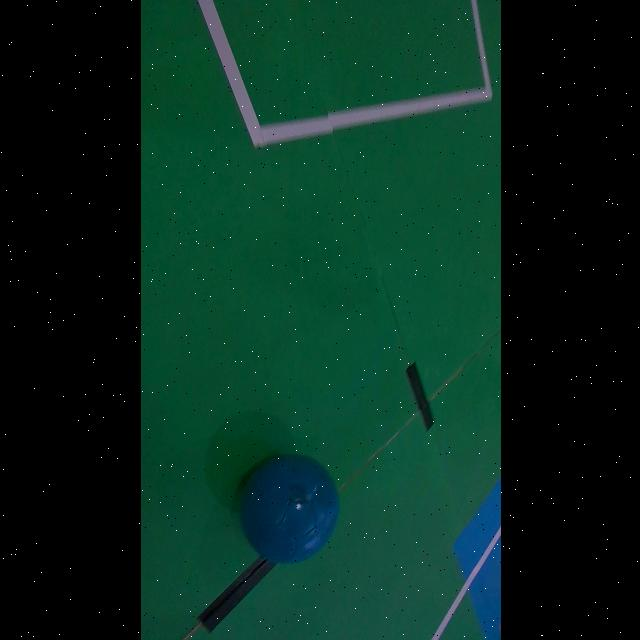B: (239, 454, 338, 564)
